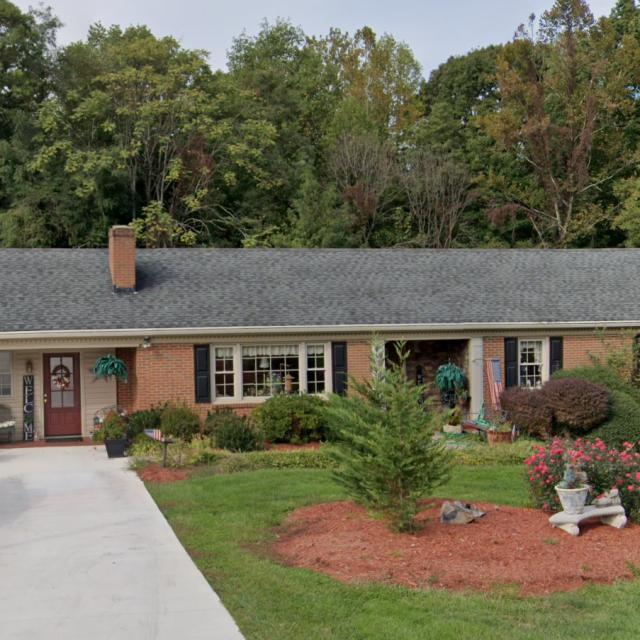House: (0, 224, 640, 448)
